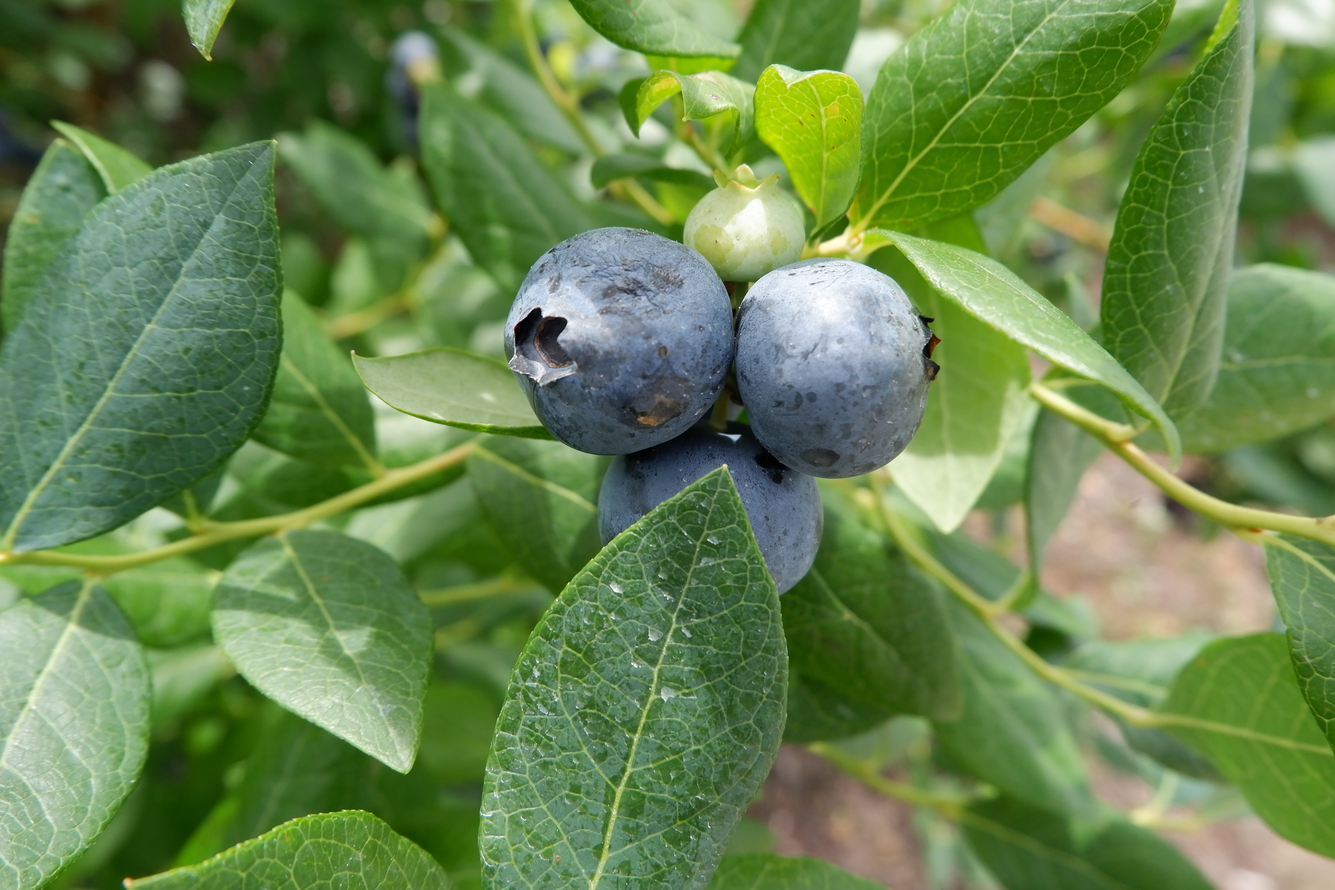Immature: (685, 171, 803, 278)
Mature: (505, 227, 733, 453), (739, 262, 936, 472), (601, 428, 821, 594)
